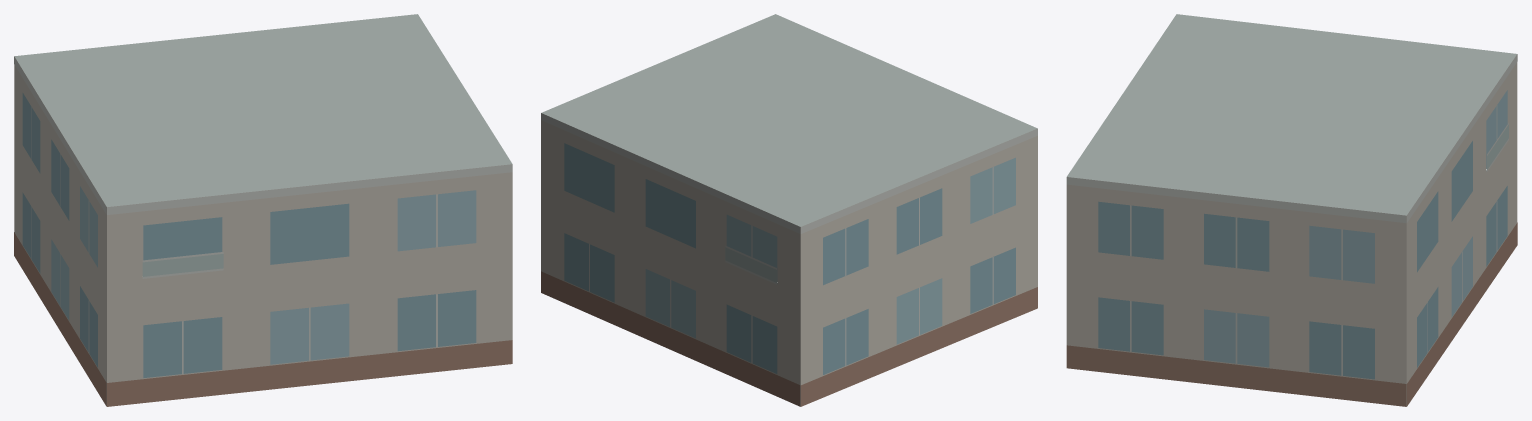
The model's file is survey-upis-32913348.glb.
3 views of the same model, side by side, from view 1: azimuth 30°, elevation 25°; view 2: azimuth 150°, elevation 25°; view 3: azimuth 270°, elevation 25° (orthographic). The views are drawn at different scales.
Visible parts, largest first — view 1: survey-upis-32913348.tmp; view 2: survey-upis-32913348.tmp; view 3: survey-upis-32913348.tmp.
Part boxes in pixels (bbox=[...]): survey-upis-32913348.tmp: bbox=[14, 14, 512, 406]; survey-upis-32913348.tmp: bbox=[541, 14, 1037, 406]; survey-upis-32913348.tmp: bbox=[1066, 14, 1517, 406].
Bounding box in the file's own units: 13.8 × 6.1 × 13.04.
